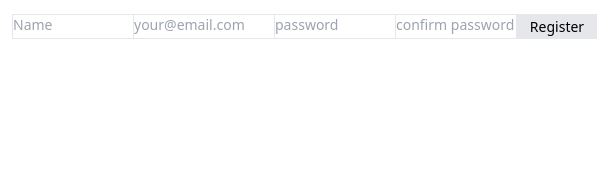
Scenario: Register Component › shows error when passwords do not match
Type "John Doe" into the field named "user-name" at (73, 25), box [13,15,133,35]
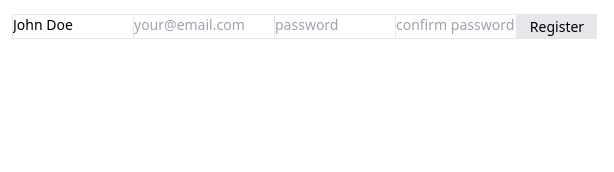
Type "john@example.com" into the field named "user-email" at (204, 25), box [134,15,274,35]
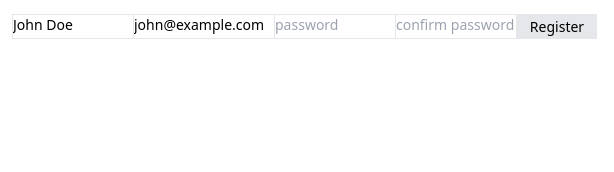
Type "password123" into the password field named "user-password" at (335, 25), box [275,15,395,35]
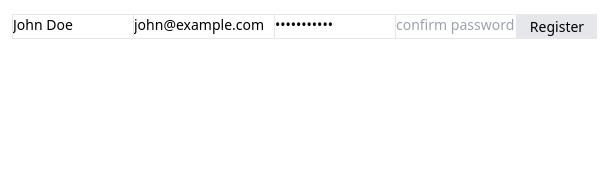
Type "differentpassword" into the password field named "user-password-confirmation" at (456, 25), box [396,15,516,35]
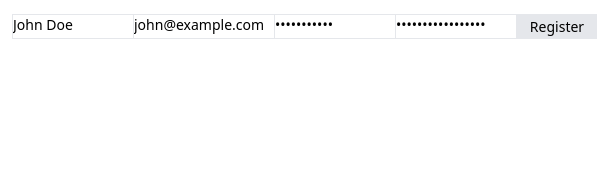
Submit the form, box [12,14,597,39]
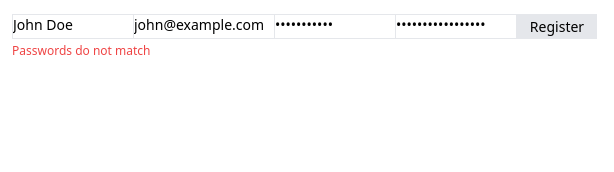
Expected: the text "Passwords do not match" is shown, [12,42,150,59]
